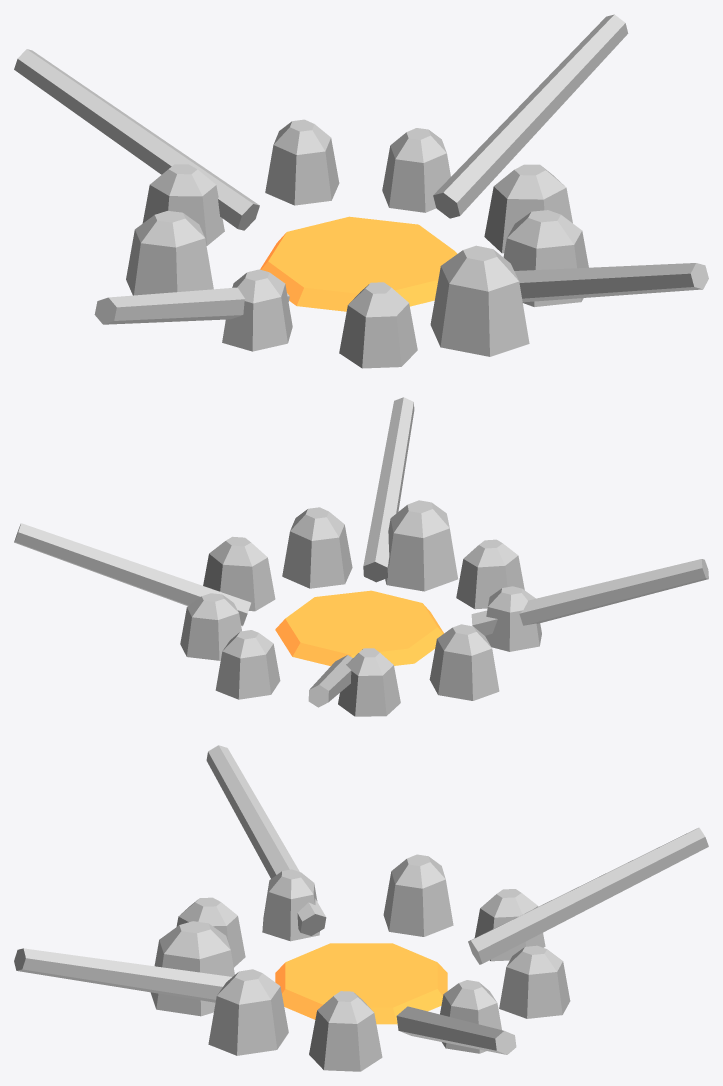
Rendered from bonfire.glb.
3 renders of one model, top to bottom at view 1: azimuth 30°, elevation 25°; view 2: azimuth 150°, elevation 25°; view 3: azimuth 270°, elevation 25°, orthographic. The views are drawn at different scales.
Parts seen in each view (by area): view 1: bonfire; view 2: bonfire; view 3: bonfire.
Part boxes in pixels (box(x1,y1,x2,y2)): bonfire: box(14, 14, 708, 368); bonfire: box(14, 397, 708, 716); bonfire: box(14, 745, 708, 1071).
Bounding box in the file's own units: 2.53 × 0.4023 × 2.53.
